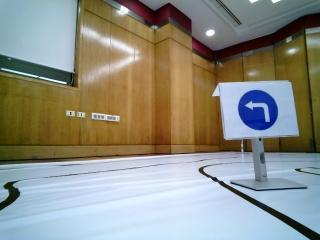left: (227, 86, 291, 137)
